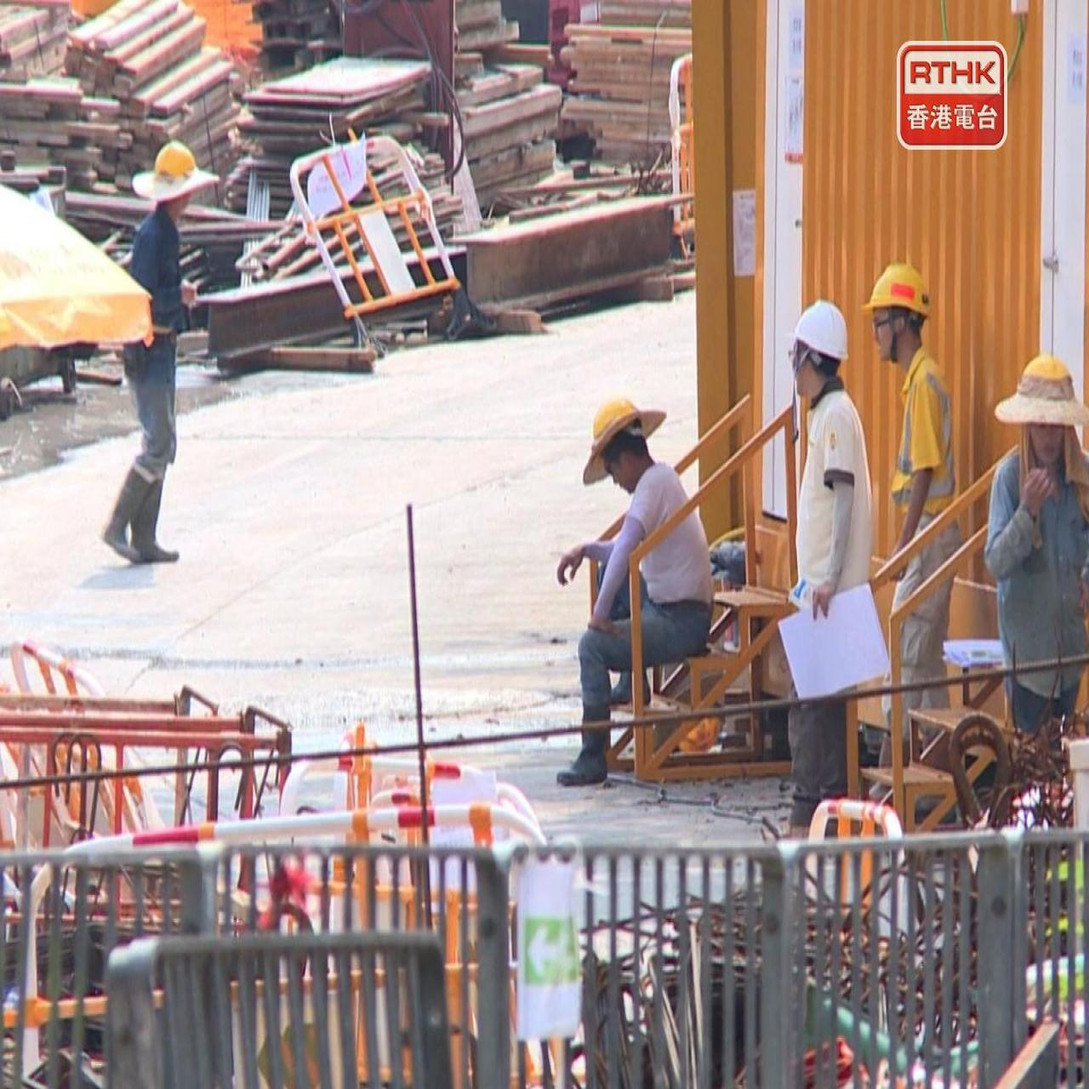NO_Safety_Vest: (783, 390, 877, 617), (992, 453, 1089, 661), (626, 463, 720, 614), (890, 356, 958, 538), (126, 204, 189, 343)
Person: (536, 371, 738, 777), (760, 280, 888, 854), (855, 251, 965, 783), (100, 133, 221, 574), (981, 343, 1088, 728)
